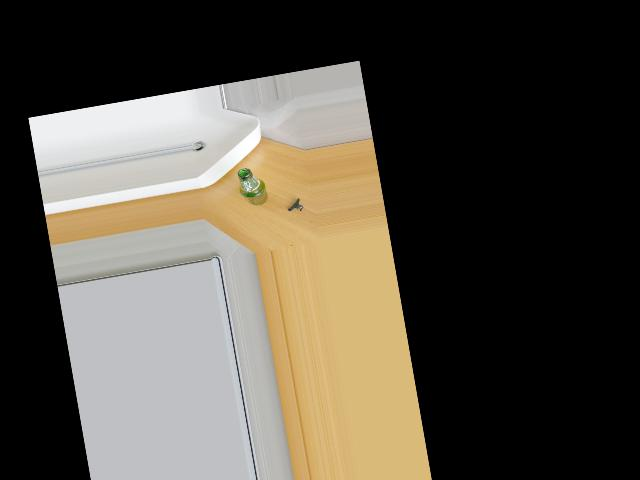beer: (236, 165, 268, 208)
